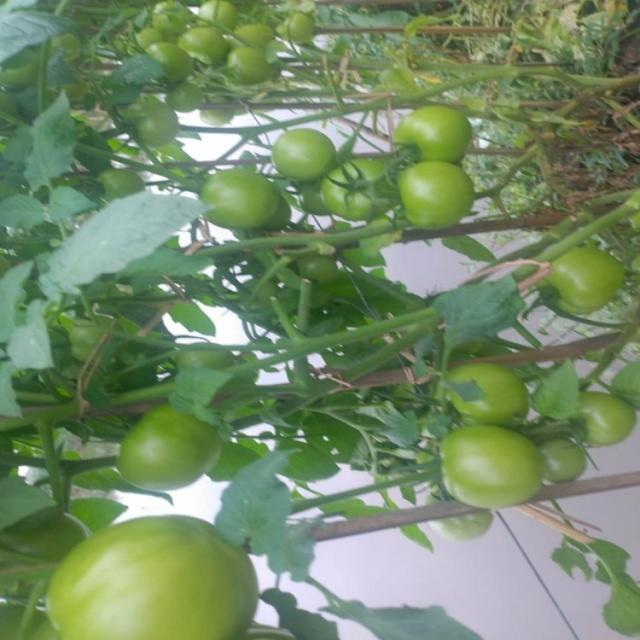tomato: (52, 507, 270, 640), (428, 422, 547, 510), (126, 389, 222, 493), (542, 230, 630, 338), (317, 145, 413, 236), (378, 92, 477, 174), (184, 145, 279, 225), (442, 343, 533, 425), (399, 148, 482, 234), (527, 403, 606, 492), (569, 374, 632, 453), (278, 113, 346, 182), (107, 90, 182, 149), (223, 40, 282, 96), (105, 19, 186, 55), (174, 24, 240, 68), (235, 19, 294, 68), (165, 70, 215, 117), (93, 159, 158, 195), (1, 49, 50, 96), (138, 33, 191, 74), (605, 351, 640, 410), (278, 12, 322, 57), (192, 1, 243, 31), (149, 1, 195, 24)
